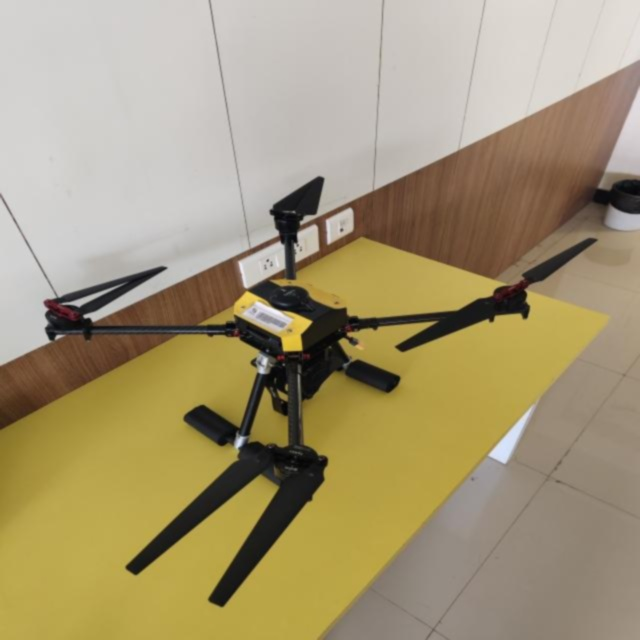quadcopter: (37, 171, 603, 612)
